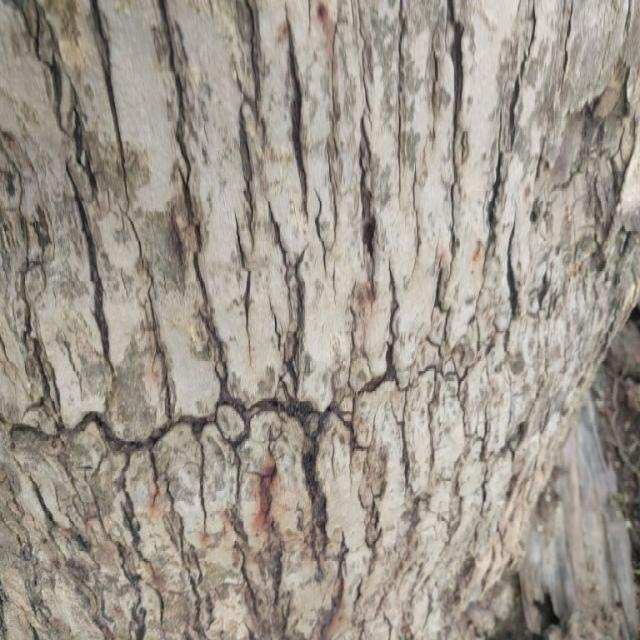stembleeding: (232, 436, 328, 544), (149, 192, 211, 312), (290, 1, 360, 86), (334, 236, 379, 328)
